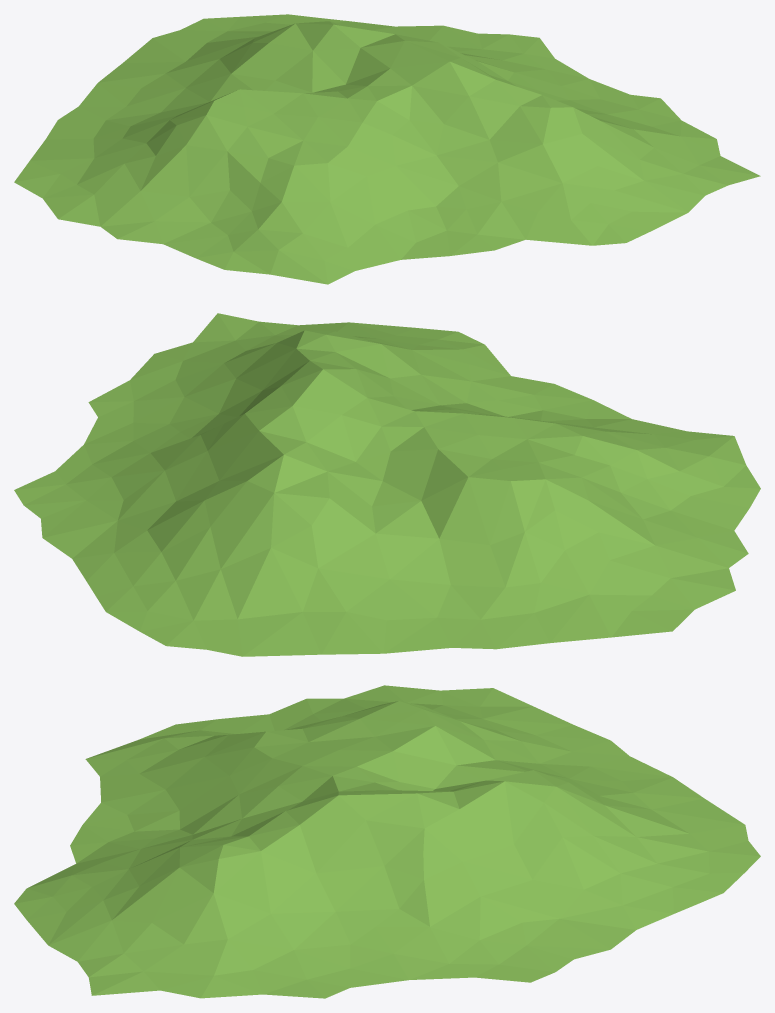
File: MT_Mountain_M_a_22_LOD.fbx
3 views of the same model, one above another, from view 1: azimuth 30°, elevation 25°; view 2: azimuth 150°, elevation 25°; view 3: azimuth 270°, elevation 25° (orthographic). The views are drawn at different scales.
Parts seen in each view (by area): view 1: MT_Mountain_M_a_22_LOD0; view 2: MT_Mountain_M_a_22_LOD0; view 3: MT_Mountain_M_a_22_LOD0.
Boxes of the visible parts, x1,y1,x2,y2 form: MT_Mountain_M_a_22_LOD0: [14, 14, 760, 284]; MT_Mountain_M_a_22_LOD0: [14, 313, 760, 656]; MT_Mountain_M_a_22_LOD0: [14, 685, 760, 998].
Size of what is drawn, in the model's own units: 4791 by 655 by 4831.
